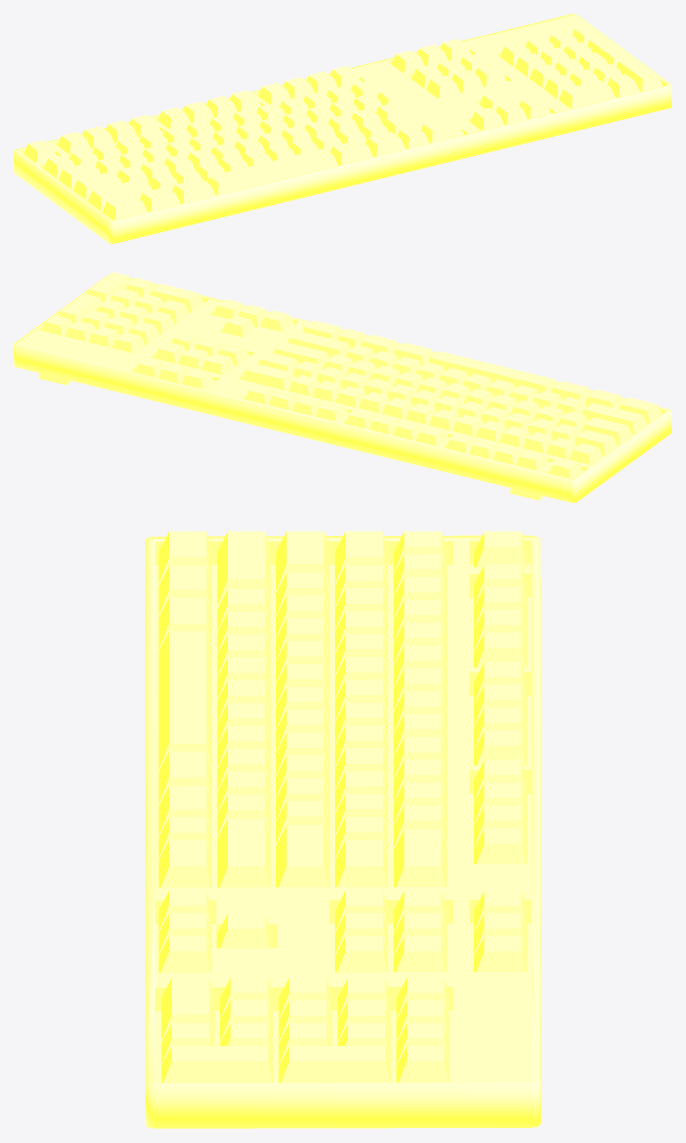
File: keyboardflat.glb
The picture shows the model from 3 angles, top to bottom: view 1: azimuth 30°, elevation 25°; view 2: azimuth 150°, elevation 25°; view 3: azimuth 270°, elevation 25°; orthographic projection. The views are drawn at different scales.
Parts seen in each view (by area): view 1: Whole Keyboard, Keys.069, Keys.087, Keys.054, Keys.065, Keys.092, Keys.066, Keys.053, Keys.068, Keys.071, Keys.073, Keys.099 (+86 smaller); view 2: Whole Keyboard, Keys.069, Keys.054, Keys.026, Keys.065, Keys.087, Keys.053, Keys.041, Keys.092, Keys.099, Keys.027, Keys.066 (+93 smaller); view 3: Whole Keyboard, Keys.069, Keys.092, Keys.099, Keys.065, Keys.053, Keys.054, Keys.026, Keys.087, Keys.073, Keys.040, Keys.041 (+93 smaller).
Boxes of the visible parts, bbox=[...] form: Whole Keyboard: bbox=[14, 14, 671, 243]; Keys.069: bbox=[207, 148, 337, 195]; Keys.087: bbox=[559, 80, 615, 108]; Keys.054: bbox=[88, 179, 152, 211]; Keys.065: bbox=[384, 107, 446, 135]; Keys.092: bbox=[616, 57, 662, 91]; Keys.066: bbox=[102, 195, 147, 220]; Keys.053: bbox=[376, 96, 431, 125]; Keys.068: bbox=[172, 178, 215, 203]; Keys.071: bbox=[330, 140, 372, 165]; Keys.073: bbox=[421, 117, 463, 143]; Keys.099: bbox=[587, 36, 630, 66]; Whole Keyboard: bbox=[14, 274, 671, 502]; Keys.069: bbox=[428, 351, 556, 394]; Keys.054: bbox=[582, 403, 647, 434]; Keys.026: bbox=[241, 363, 295, 390]; Keys.065: bbox=[287, 331, 350, 357]; Keys.087: bbox=[150, 284, 204, 312]; Keys.053: bbox=[273, 342, 329, 368]; Keys.041: bbox=[581, 417, 632, 445]; Keys.092: bbox=[87, 272, 131, 302]; Keys.099: bbox=[58, 293, 102, 323]; Keys.027: bbox=[575, 430, 617, 456]; Keys.066: bbox=[619, 397, 661, 423]; Whole Keyboard: bbox=[145, 535, 540, 1128]; Keys.069: bbox=[158, 631, 211, 770]; Keys.092: bbox=[161, 1046, 273, 1082]; Keys.099: bbox=[278, 1046, 390, 1082]; Keys.065: bbox=[217, 818, 270, 887]; Keys.053: bbox=[276, 825, 329, 887]; Keys.054: bbox=[217, 531, 270, 606]; Keys.026: bbox=[393, 829, 446, 887]; Keys.087: bbox=[161, 977, 214, 1041]; Keys.073: bbox=[158, 840, 211, 887]; Keys.040: bbox=[335, 840, 388, 887]; Keys.041: bbox=[276, 531, 329, 590].
Bounding box in the file's own units: 80.75 × 5.1 × 24.57.
